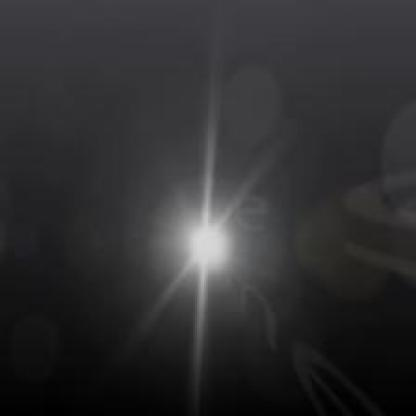other: (170, 194, 254, 299)
